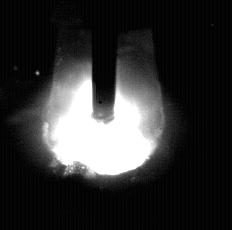arame: (94, 0, 117, 123)
poca: (41, 0, 166, 230)
